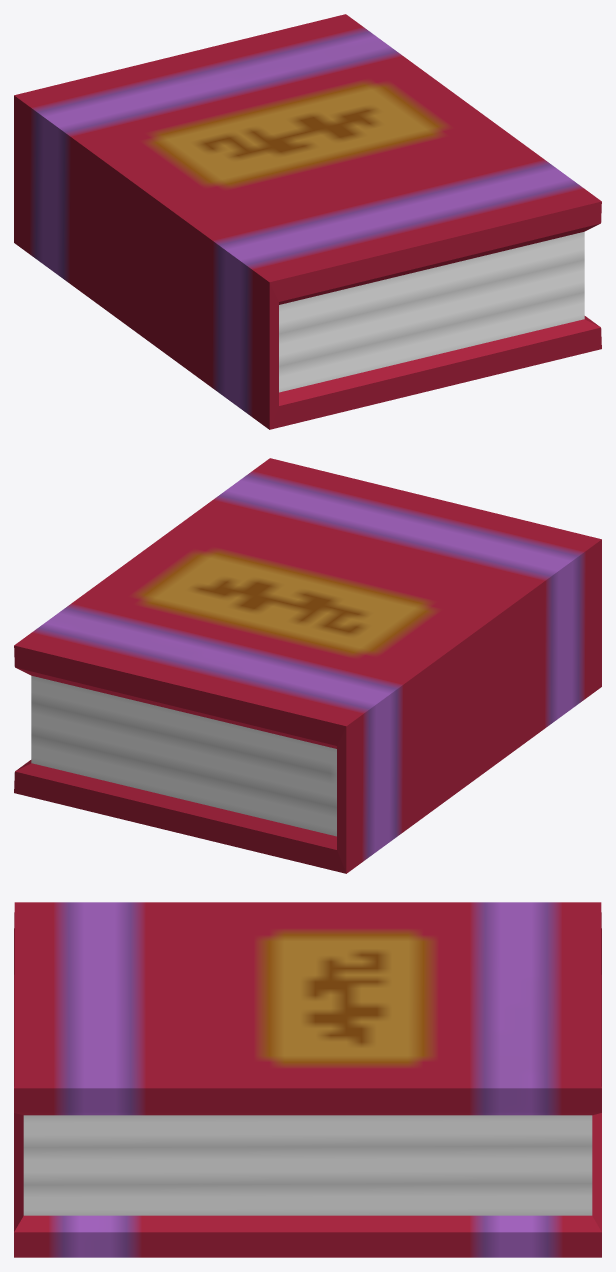
Rendered from BoekThic.fbx.
3 views of the same model, one above another, from view 1: azimuth 30°, elevation 25°; view 2: azimuth 150°, elevation 25°; view 3: azimuth 270°, elevation 25° (orthographic). The views are drawn at different scales.
Visible parts, largest first — view 1: pCube1; view 2: pCube1; view 3: pCube1.
Part boxes in pixels (<box>): pCube1: <box>14,14,601,429</box>; pCube1: <box>14,458,601,873</box>; pCube1: <box>14,902,601,1257</box>.
Bounding box in the file's own units: 1.42 × 0.6038 × 1.9.
